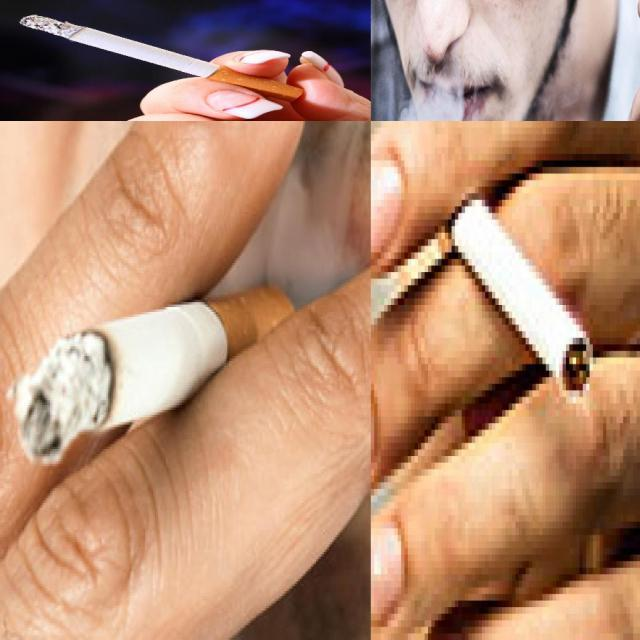cigarette: (13, 284, 298, 467), (431, 165, 594, 406), (19, 13, 306, 102)
